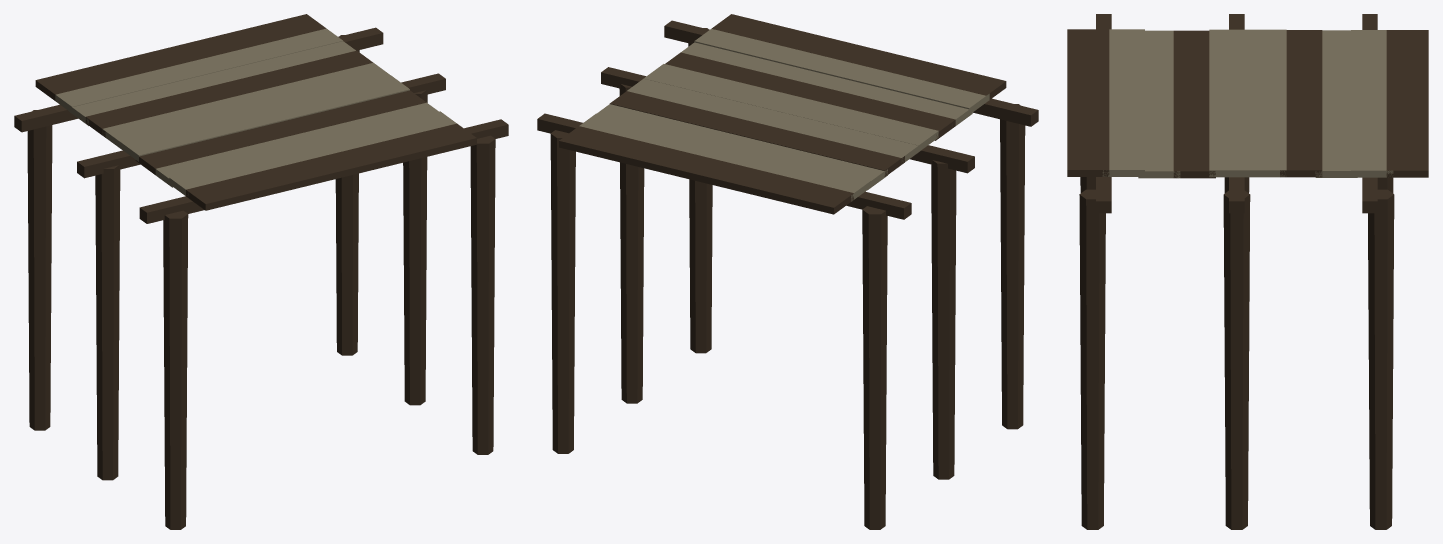
Rendered from s2_ferry_pier.glb.
3 renders of one model, left to right at view 1: azimuth 30°, elevation 25°; view 2: azimuth 150°, elevation 25°; view 3: azimuth 270°, elevation 25°, orthographic. The views are drawn at different scales.
Parts seen in each view (by area): view 1: s2_ferry_pier; view 2: s2_ferry_pier; view 3: s2_ferry_pier.
Part boxes in pixels (x1,y1,x2,y2): s2_ferry_pier: [14, 14, 508, 529]; s2_ferry_pier: [537, 14, 1038, 529]; s2_ferry_pier: [1067, 14, 1428, 529].
Bounding box in the file's own units: 4 × 3.45 × 3.26.
